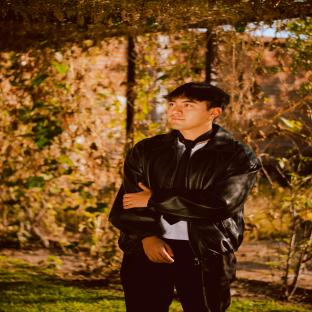Human: (110, 81, 262, 312)
